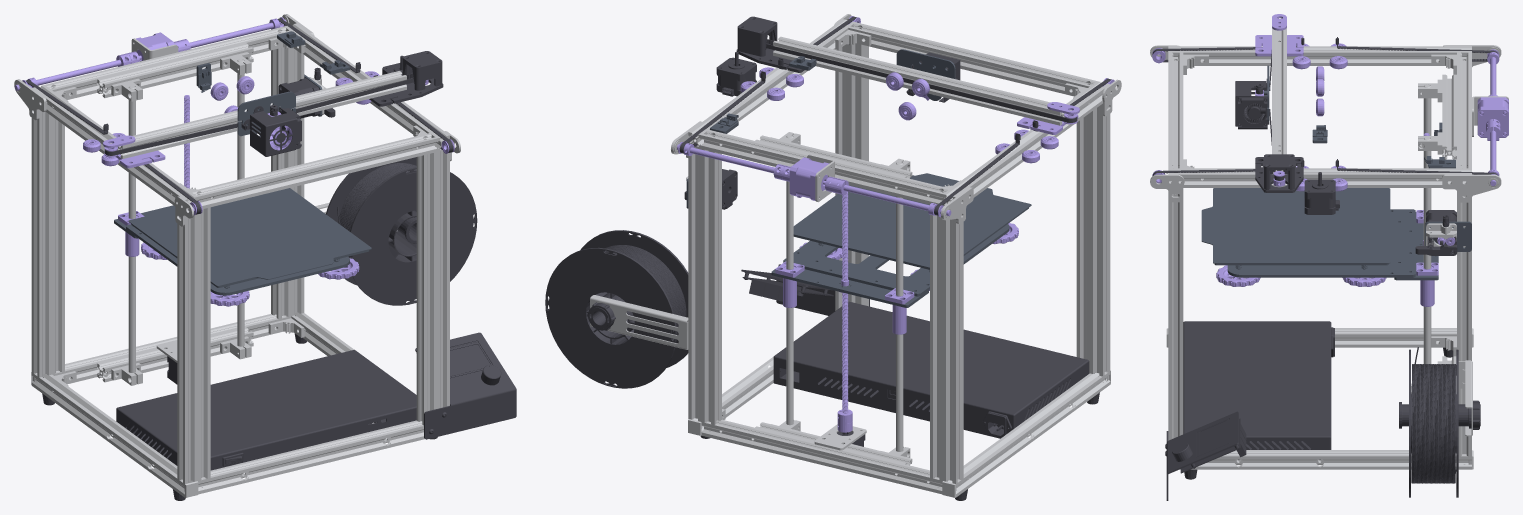
The model's file is Ender5Pro.glb.
3 views of the same model, side by side, from view 1: azimuth 30°, elevation 25°; view 2: azimuth 150°, elevation 25°; view 3: azimuth 270°, elevation 25° (orthographic).
Parts seen in each view (by area): view 1: corner-bracket, control-panel-stock_stock, heater-plate, drive-shaft-8mm, x-axis-strut, fan-shroud, x-axis-stepper-cover, lead-screw-nut, extruder-mount-plate, hot-end-carriage-plate, pulley-half; view 2: corner-bracket, control-panel-stock_stock, heater-plate, drive-shaft-8mm, x-axis-strut, x-axis-stepper-cover, fan-shroud, hot-end-carriage-plate, pulley-half, extruder-mount-plate; view 3: corner-bracket, control-panel-stock_stock, heater-plate, drive-shaft-8mm, x-axis-strut, fan-shroud, x-axis-stepper-cover, extruder-mount-plate, pulley-half, lead-screw-nut.
Part boxes in pixels (bbox=[...]): corner-bracket: bbox=[14, 14, 460, 497]; control-panel-stock_stock: bbox=[25, 18, 516, 500]; heater-plate: bbox=[114, 188, 371, 295]; drive-shaft-8mm: bbox=[14, 17, 454, 256]; x-axis-strut: bbox=[117, 71, 406, 158]; fan-shroud: bbox=[105, 73, 413, 156]; x-axis-stepper-cover: bbox=[369, 51, 443, 106]; lead-screw-nut: bbox=[141, 242, 359, 306]; extruder-mount-plate: bbox=[196, 31, 349, 116]; hot-end-carriage-plate: bbox=[237, 91, 295, 136]; pulley-half: bbox=[103, 79, 428, 168]; corner-bracket: bbox=[590, 14, 1121, 497]; control-panel-stock_stock: bbox=[545, 16, 1111, 500]; heater-plate: bbox=[771, 173, 1031, 307]; drive-shaft-8mm: bbox=[677, 16, 1114, 432]; x-axis-strut: bbox=[773, 36, 1064, 125]; x-axis-stepper-cover: bbox=[736, 16, 804, 72]; fan-shroud: bbox=[766, 39, 1077, 122]; hot-end-carriage-plate: bbox=[896, 49, 955, 100]; pulley-half: bbox=[1017, 102, 1079, 134]; extruder-mount-plate: bbox=[686, 56, 816, 208]; corner-bracket: bbox=[1150, 45, 1508, 469]; control-panel-stock_stock: bbox=[1152, 37, 1497, 500]; heater-plate: bbox=[1201, 188, 1438, 280]; drive-shaft-8mm: bbox=[1152, 43, 1508, 306]; x-axis-strut: bbox=[1272, 28, 1286, 174]; fan-shroud: bbox=[1235, 50, 1284, 180]; x-axis-stepper-cover: bbox=[1255, 154, 1303, 192]; extruder-mount-plate: bbox=[1312, 122, 1471, 251]; pulley-half: bbox=[1255, 14, 1303, 186]; lead-screw-nut: bbox=[1216, 240, 1423, 286].
Bounding box in the file's own units: 0.6783 × 0.5054 × 0.4848.
